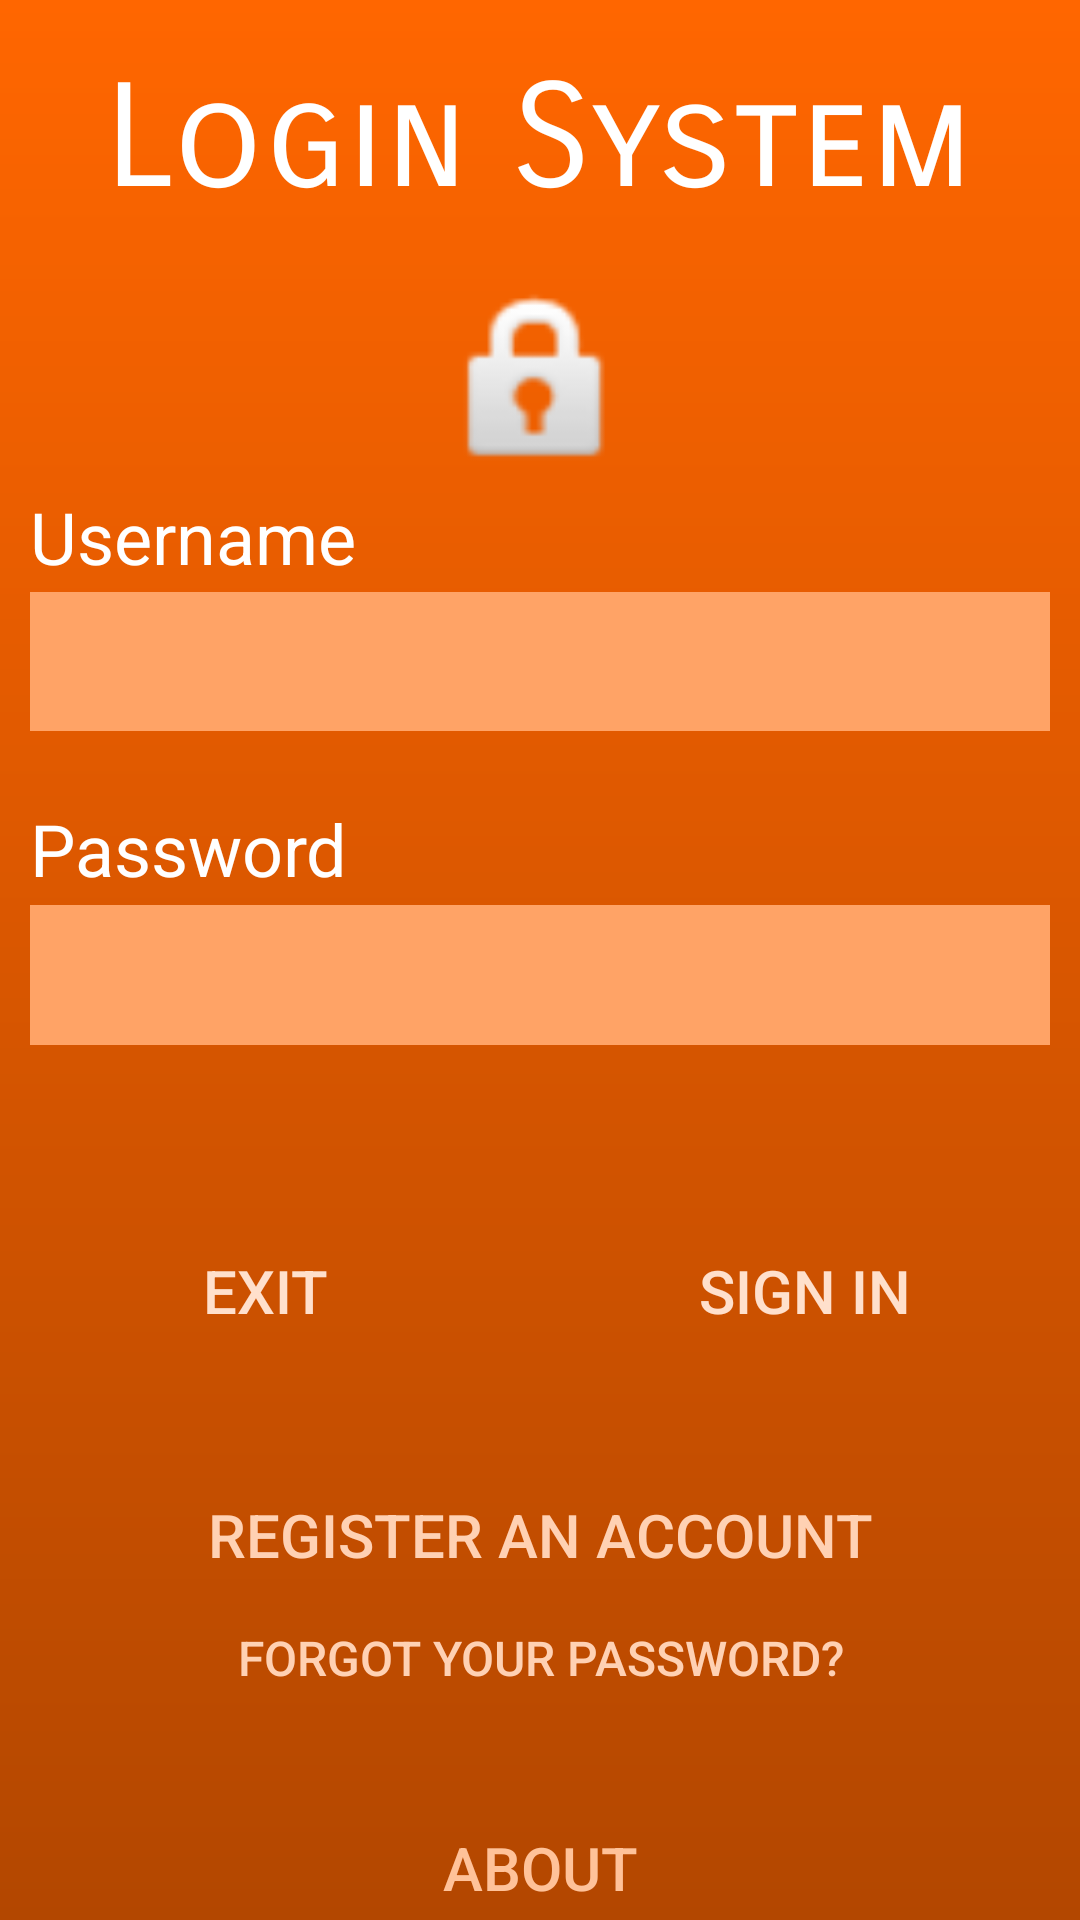

Point at icon controls on the screen. Image size 1080px×1920px, points as [x,y].
lock idle: [535,376]
